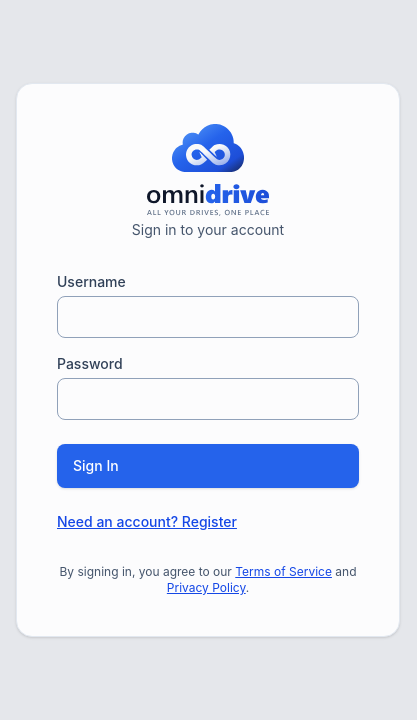
Test: LoginPage › toggles to register mode when "Need an account? Register" clicked, showing extra fields
What coordinates should you click on to do the following:
click the button "Need an account? Register"
I would click on:
 (147, 522)
Its box is [57,512,237,532].
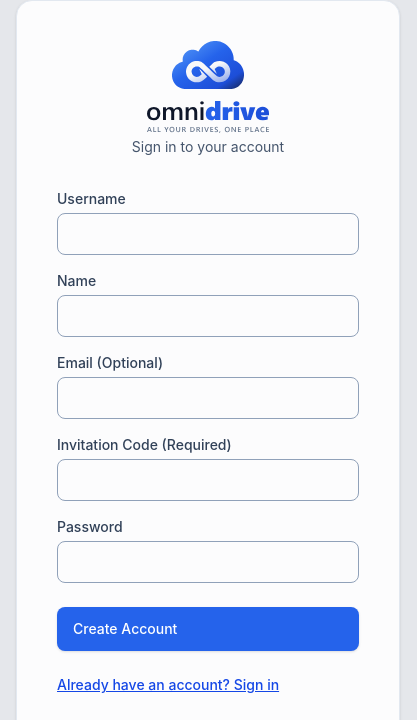
Expected: the field labelled "Name" is shown, [57,295,359,337]
Expected: the field labelled "Email (Optional)" is shown, [57,377,359,419]
Expected: the field labelled "Invitation Code (Required)" is shown, [57,459,359,501]
